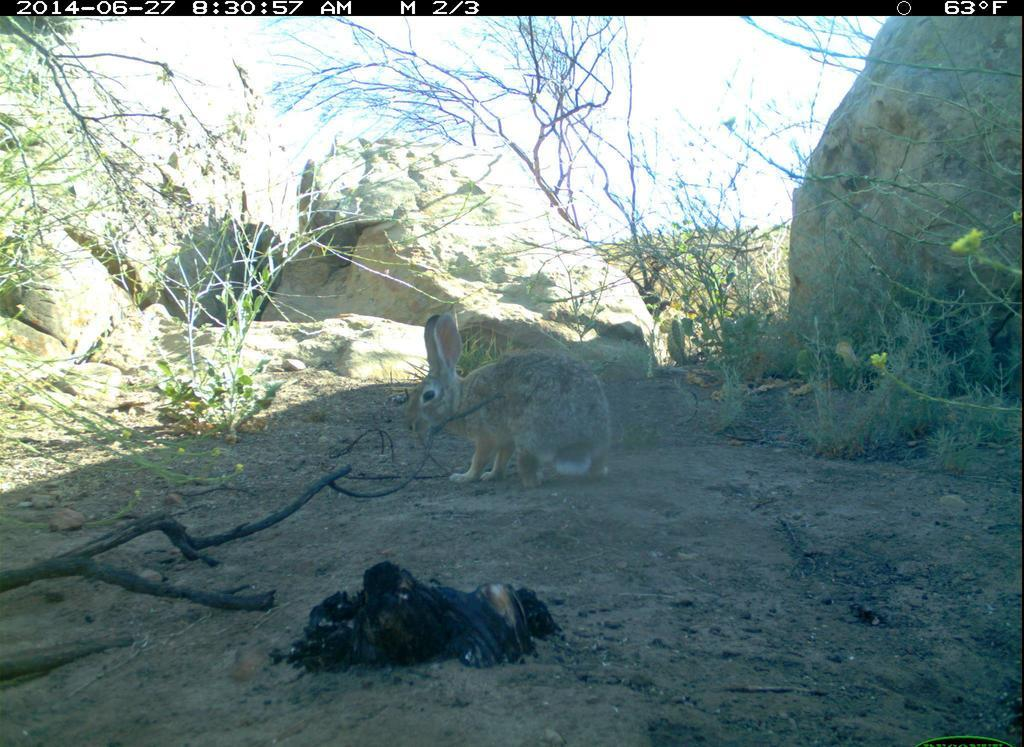rabbit: (392, 300, 648, 514)
